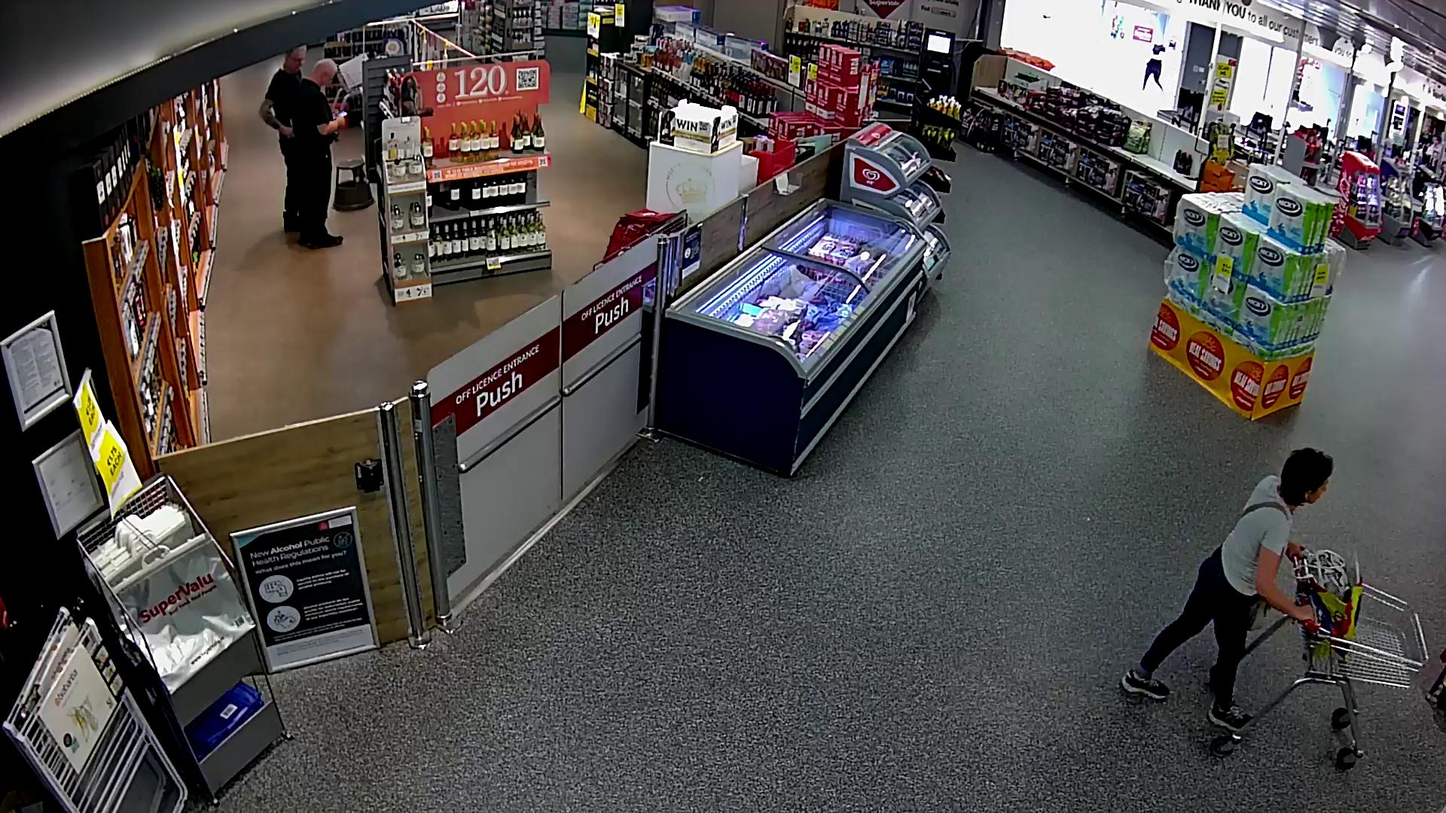filled-shopping-bags: (1296, 545, 1365, 664)
filled-trolly: (1211, 543, 1430, 769)
person: (1121, 447, 1336, 732)
person-with-basket-trolly-and-shopping-bag: (1120, 447, 1429, 769)
